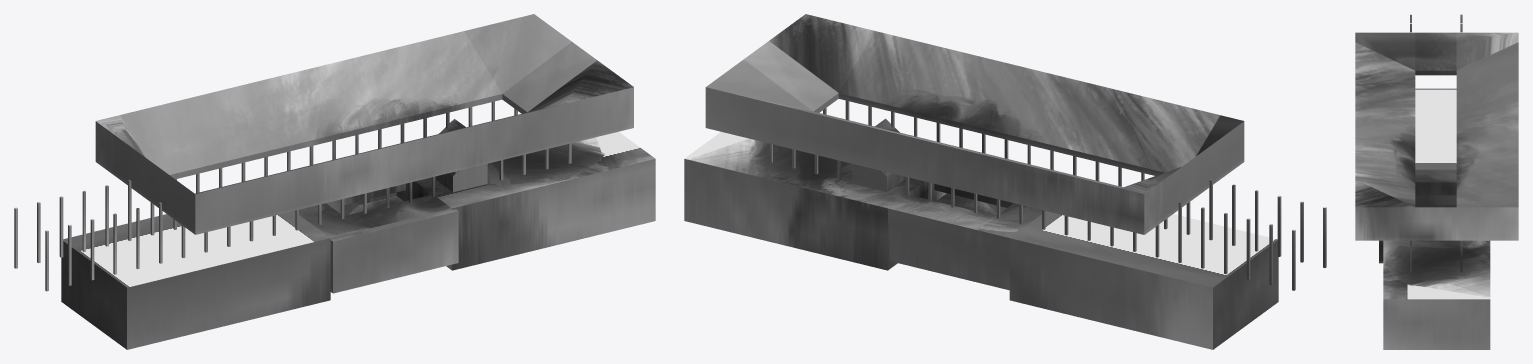
Rendered from HumanitiesBuilding.fbx.
3 renders of one model, left to right at view 1: azimuth 30°, elevation 25°; view 2: azimuth 150°, elevation 25°; view 3: azimuth 270°, elevation 25°, orthographic. The views are drawn at different scales.
Visible parts, largest first — view 1: Cube.003; view 2: Cube.003; view 3: Cube.003.
Boxes of the visible parts, box(x1,y1,x2,y2) form: Cube.003: box(14, 14, 655, 349); Cube.003: box(684, 14, 1326, 349); Cube.003: box(1355, 14, 1518, 349).
Bounding box in the file's own units: 7859 × 1974 × 2295.
1 material, 1 textured.
